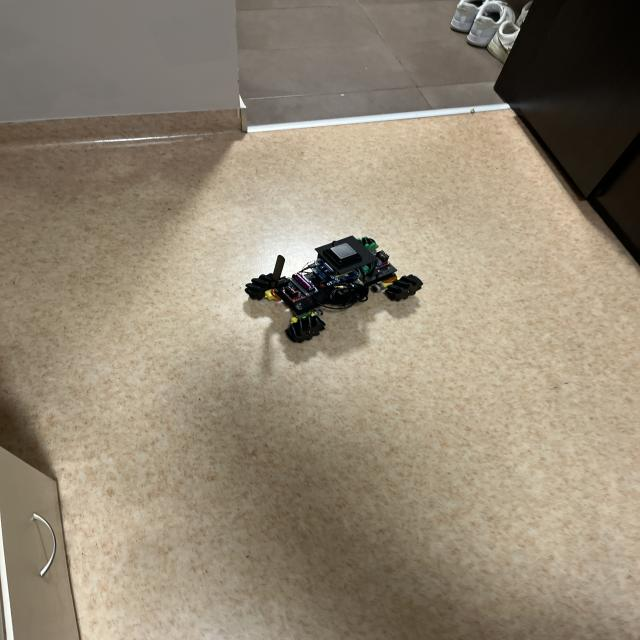robot: (245, 236, 423, 342)
